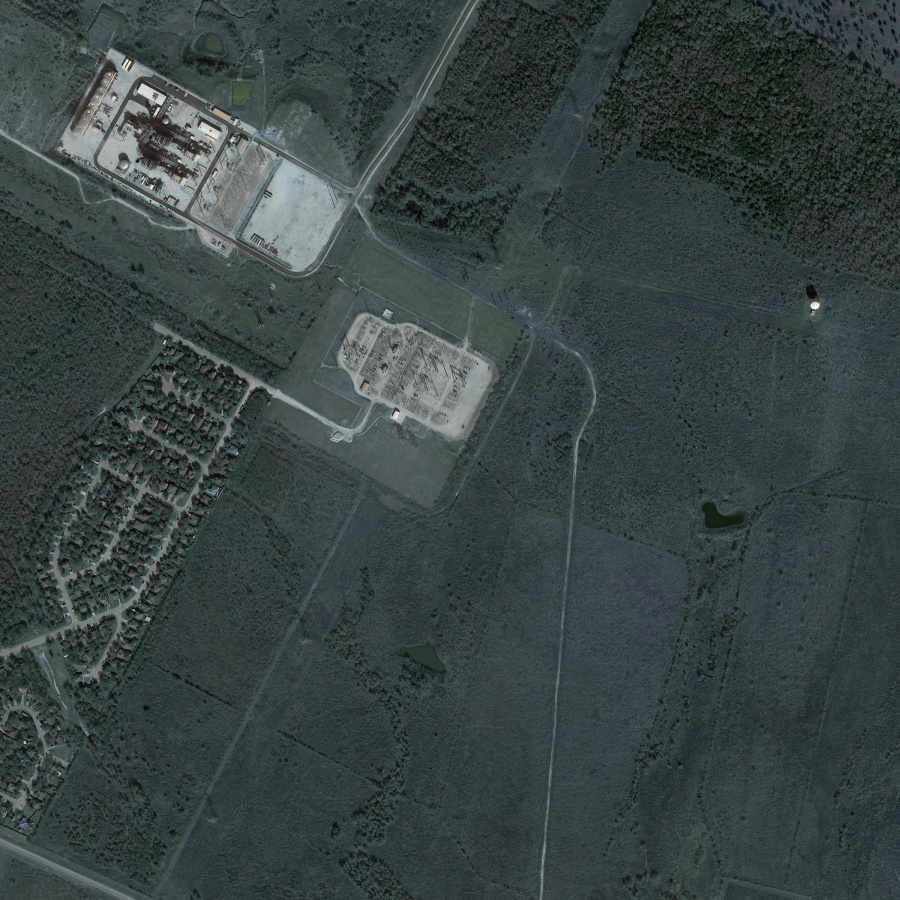PowerPlant: (61, 51, 271, 241), (335, 297, 482, 434)
